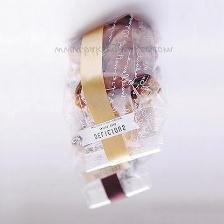snack: (53, 7, 174, 216)
